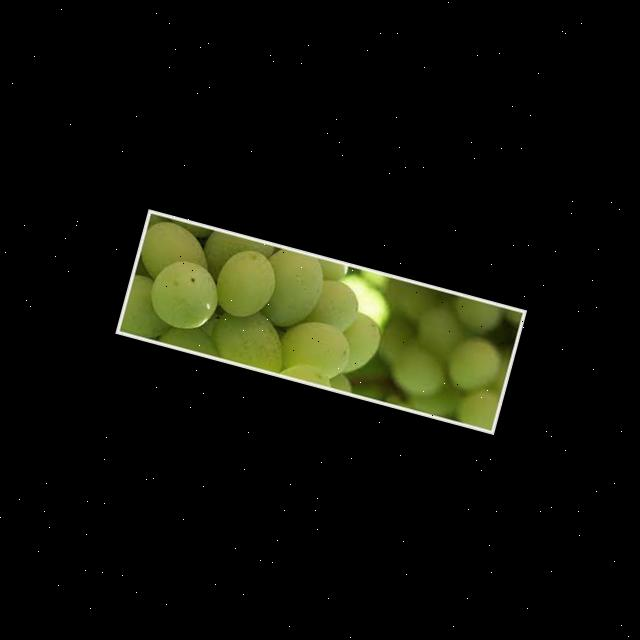grape: (118, 212, 522, 428)
